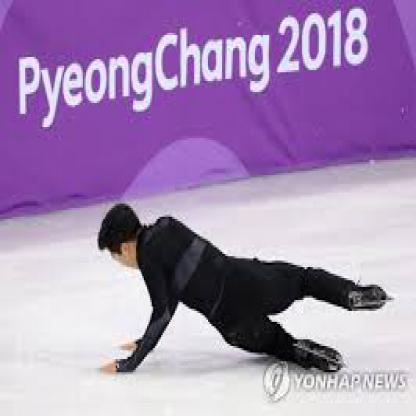Fall_Down: (95, 203, 390, 375)
